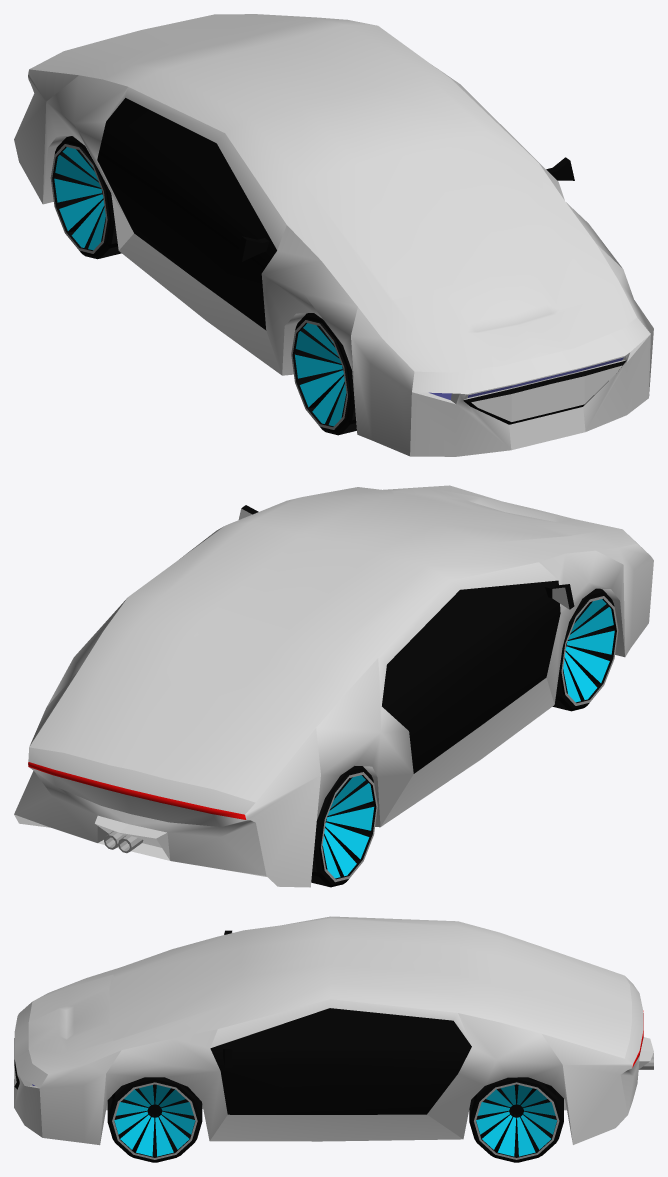
File: Vehicle1.fbx
3 renders of one model, top to bottom at view 1: azimuth 30°, elevation 25°; view 2: azimuth 150°, elevation 25°; view 3: azimuth 270°, elevation 25°, orthographic. The views are drawn at different scales.
Visible parts, largest first — view 1: pCube1, pCylinder1, pCylinder2, pCube2; view 2: pCube1, pCylinder2, pCylinder1, pCube2; view 3: pCube1, pCylinder2, pCylinder1.
Part boxes in pixels (box(x1,y1,x2,y2)): pCube1: box(14, 14, 653, 456); pCylinder1: box(291, 313, 356, 435); pCylinder2: box(50, 136, 121, 259); pCube2: box(237, 157, 574, 261); pCube1: box(14, 485, 653, 887); pCylinder2: box(311, 766, 377, 887); pCylinder1: box(552, 588, 618, 711); pCube2: box(238, 505, 574, 609); pCube1: box(14, 916, 653, 1145); pCylinder2: box(469, 1077, 563, 1162); pCylinder1: box(107, 1077, 202, 1162).
Bounding box in the file's own units: 18.36 × 11.4 × 40.64.
